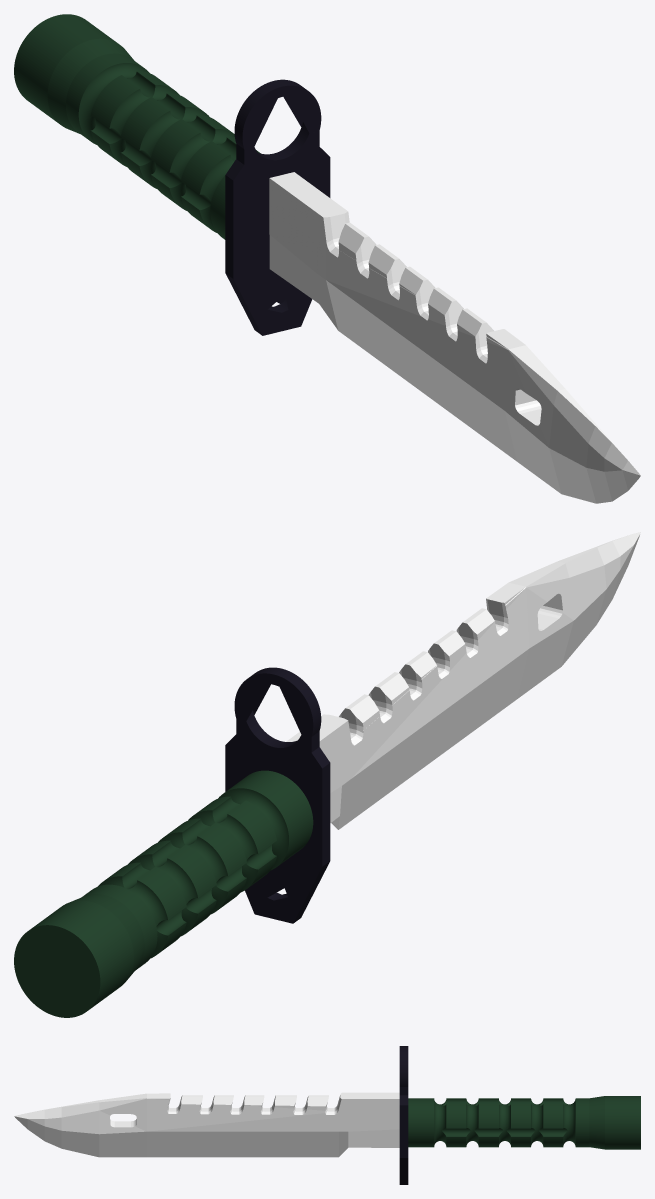
The model's file is Bayonet.fbx.
3 renders of one model, top to bottom at view 1: azimuth 30°, elevation 25°; view 2: azimuth 150°, elevation 25°; view 3: azimuth 270°, elevation 25°, orthographic. The views are drawn at different scales.
Visible parts, largest first — view 1: Cylinder; view 2: Cylinder; view 3: Cylinder.
Boxes of the visible parts, x1,y1,x2,y2 form: Cylinder: (14, 14, 640, 503); Cylinder: (14, 532, 640, 1017); Cylinder: (14, 1046, 640, 1184).
Size of the model in its own units: 246 by 593 by 2567.
